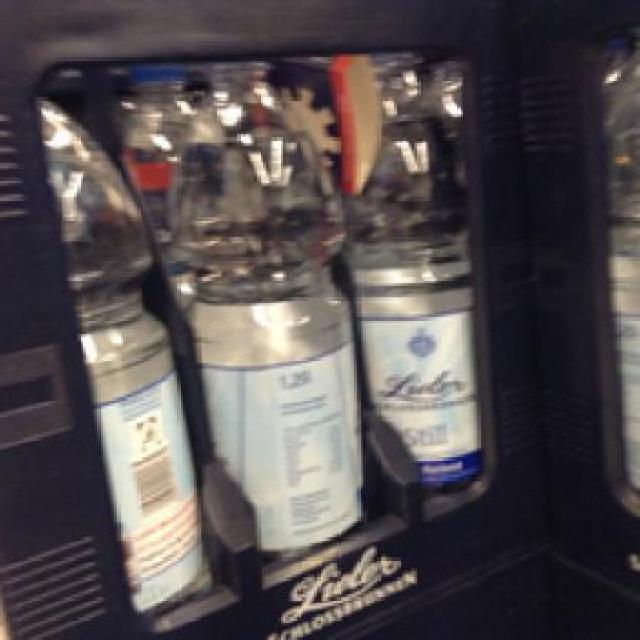Water: (163, 60, 360, 549), (35, 74, 212, 603), (343, 49, 474, 500)
